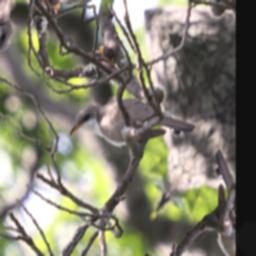Cuckoo: (62, 50, 199, 208)
